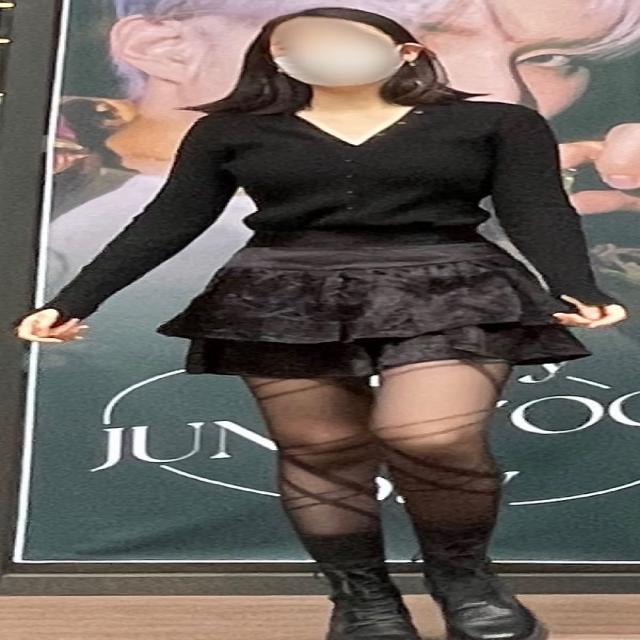cardigan: (26, 94, 623, 334)
skirt: (154, 239, 593, 372)
